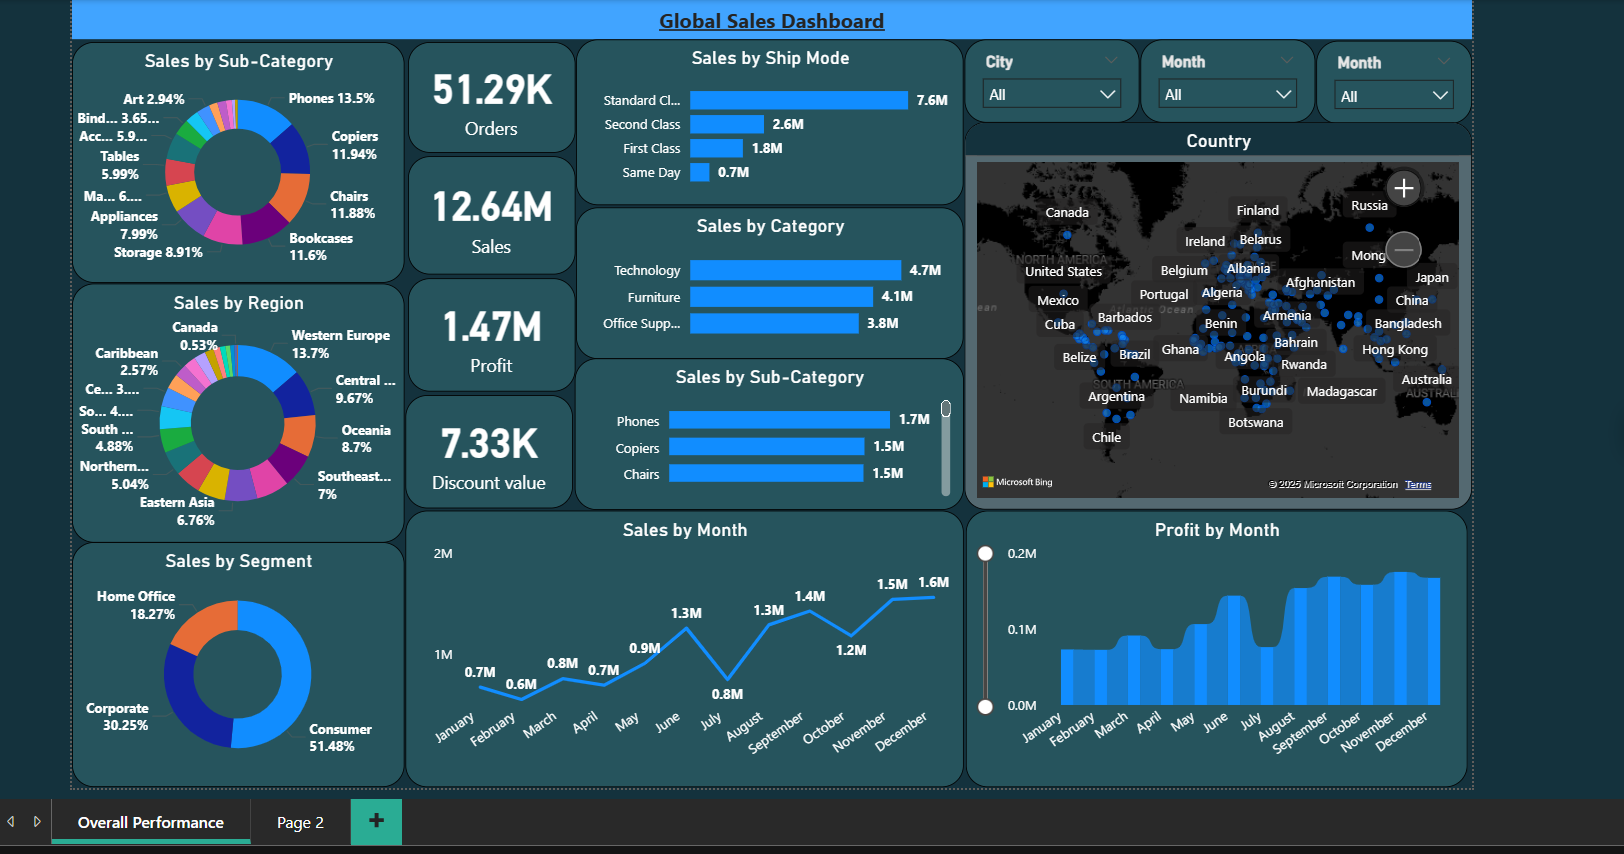

Layout of this report page (visuals, bound fields, positions):
{"tool":"powerbi","page":{"name":"Overall Performance","canvas":[1280,720],"ordinal":0},"visuals":[{"type":"textbox","box":[0,0,1279.8,36],"z":0},{"type":"donutChart","fields":{"Y":["Sum(Orders.Sales)"],"Category":["Orders.Sub-Category"]},"box":[0,38.7,303.9,220],"z":1000},{"type":"donutChart","fields":{"Category":["Orders.Region"],"Y":["Sum(Orders.Sales)"]},"box":[0,258.6,303.9,237.3],"z":2000},{"type":"donutChart","fields":{"Category":["Orders.Segment"],"Y":["Sum(Orders.Sales)"]},"box":[0,495.9,303.9,224],"z":3000},{"type":"card","fields":{"Values":["CountNonNull(Orders.Customer ID)"]},"box":[306.6,38.7,153.3,101.3],"z":4000},{"type":"card","fields":{"Values":["Sum(Orders.Sales)"]},"box":[306.6,142.6,153.3,108],"z":5000},{"type":"card","fields":{"Values":["Sum(Orders.Profit)"]},"box":[306.6,254.6,153.3,104],"z":6000},{"type":"lineChart","fields":{"Category":["Orders.Order Date.Variation.Date Hierarchy.Month"],"Y":["Sum(Orders.Sales)"]},"box":[305.3,466.6,510.6,253.3],"z":7000},{"type":"ribbonChart","fields":{"Y":["Sum(Orders.Profit)"],"Category":["Orders.Order Date.Variation.Date Hierarchy.Month"]},"box":[817.2,466.6,458.6,253.3],"z":8000},{"type":"clusteredBarChart","fields":{"Category":["Orders.Ship Mode"],"Y":["Sum(Orders.Sales)"]},"box":[461.3,36,354.6,152],"z":9000},{"type":"clusteredBarChart","fields":{"Category":["Orders.Category"],"Y":["Sum(Orders.Sales)"]},"box":[461.3,189.3,354.6,138.6],"z":10000},{"type":"clusteredBarChart","fields":{"Y":["Sum(Orders.Sales)"],"Category":["Orders.Sub-Category"]},"box":[459.9,327.9,355.9,138.6],"z":11000},{"type":"card","fields":{"Values":["Sum(Orders.Discount)"]},"box":[305.3,361.3,153.3,104],"z":12000},{"type":"slicer","fields":{"Values":["Orders.City"]},"box":[815.9,36,160,76],"z":13000},{"type":"slicer","fields":{"Values":["Orders.Order Date.Variation.Date Hierarchy.Month"]},"box":[977.2,36,160,76],"z":14000},{"type":"slicer","fields":{"Values":["Orders.Order Date.Variation.Date Hierarchy.Month"]},"box":[1137.1,37.3,142.6,76],"z":15000},{"type":"map","fields":{"Category":["Orders.Country"]},"box":[815.9,112,463.9,354.6],"z":16000}]}

Visuals, with their boxes on the page's 1280x720 design canvas (x1, y1, x2, y2). These are canvas units, not pixel positions in the 1624x854 screenshot, which may show the page scaled, cropped or inside an application window:
textbox: select_region(0, 0, 1280, 36)
donutChart - Sum(Orders.Sales) x Orders.Sub-Category: select_region(0, 39, 304, 259)
donutChart - Orders.Region x Sum(Orders.Sales): select_region(0, 259, 304, 496)
donutChart - Orders.Segment x Sum(Orders.Sales): select_region(0, 496, 304, 720)
card - CountNonNull(Orders.Customer ID): select_region(307, 39, 460, 140)
card - Sum(Orders.Sales): select_region(307, 143, 460, 251)
card - Sum(Orders.Profit): select_region(307, 255, 460, 359)
lineChart - Orders.Order Date.Variation.Date Hierarchy.Month x Sum(Orders.Sales): select_region(305, 467, 816, 720)
ribbonChart - Sum(Orders.Profit) x Orders.Order Date.Variation.Date Hierarchy.Month: select_region(817, 467, 1276, 720)
clusteredBarChart - Orders.Ship Mode x Sum(Orders.Sales): select_region(461, 36, 816, 188)
clusteredBarChart - Orders.Category x Sum(Orders.Sales): select_region(461, 189, 816, 328)
clusteredBarChart - Sum(Orders.Sales) x Orders.Sub-Category: select_region(460, 328, 816, 466)
card - Sum(Orders.Discount): select_region(305, 361, 459, 465)
slicer - Orders.City: select_region(816, 36, 976, 112)
slicer - Orders.Order Date.Variation.Date Hierarchy.Month: select_region(977, 36, 1137, 112)
slicer - Orders.Order Date.Variation.Date Hierarchy.Month: select_region(1137, 37, 1280, 113)
map - Orders.Country: select_region(816, 112, 1280, 467)
